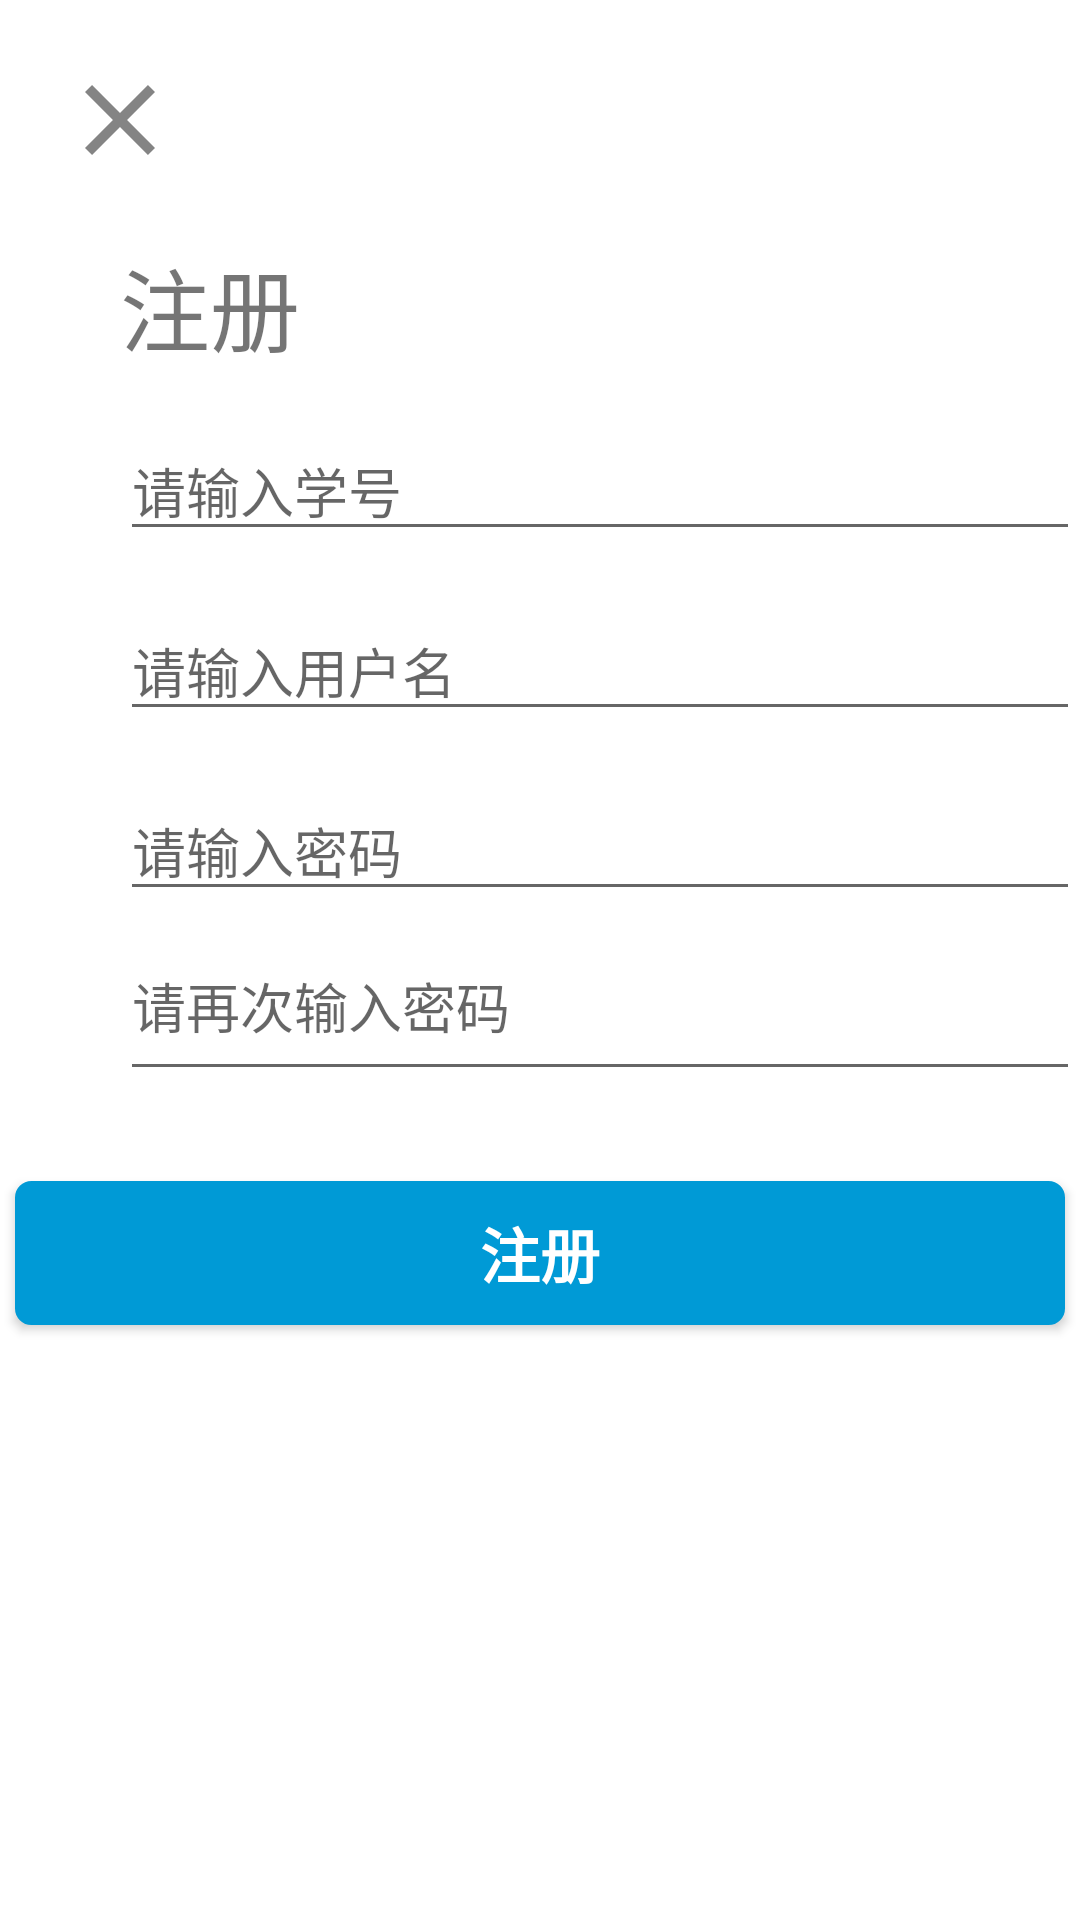

Named icons in this screenshot (1080w x 1920h) and their bounding boxes, (x1, y1, x2, y2):
close: (85, 85, 155, 155)
